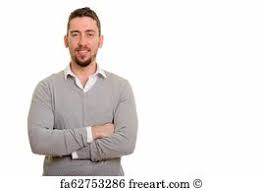white_male: (67, 16, 99, 65)
